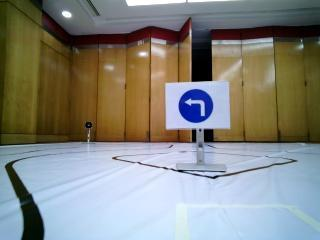left: (173, 88, 224, 124)
